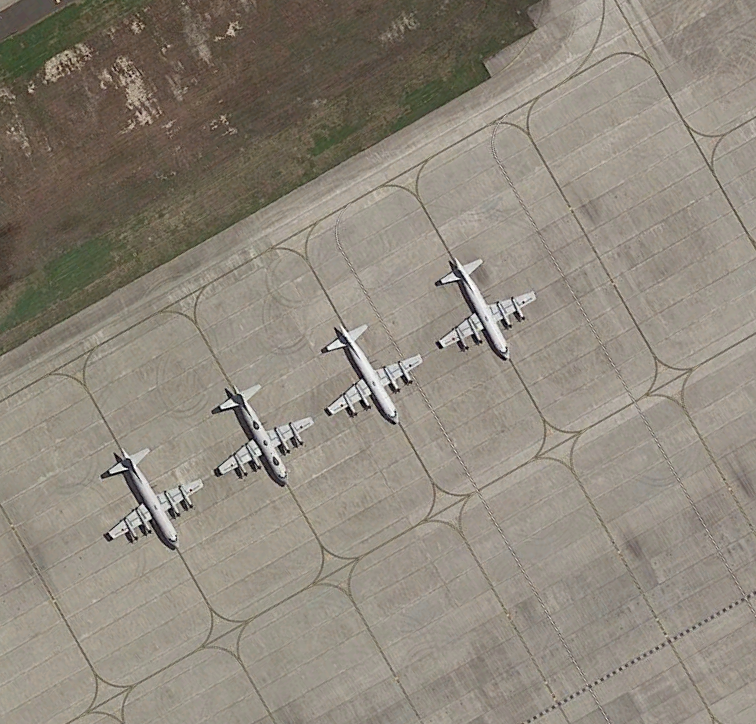A9: (95, 437, 208, 553), (203, 373, 316, 489), (314, 309, 427, 425), (426, 246, 539, 362)
